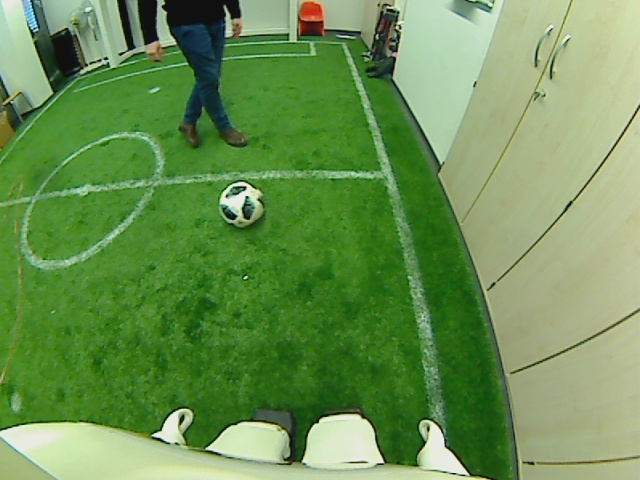ball: (219, 179, 264, 228)
